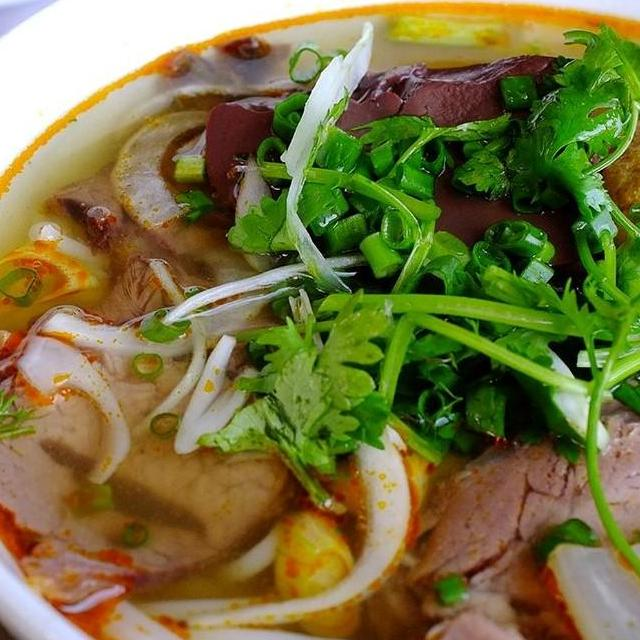bun: (94, 406, 447, 640)
bun bo: (0, 0, 640, 640)
thit bo: (0, 300, 309, 622), (382, 332, 640, 622), (32, 112, 256, 345)
